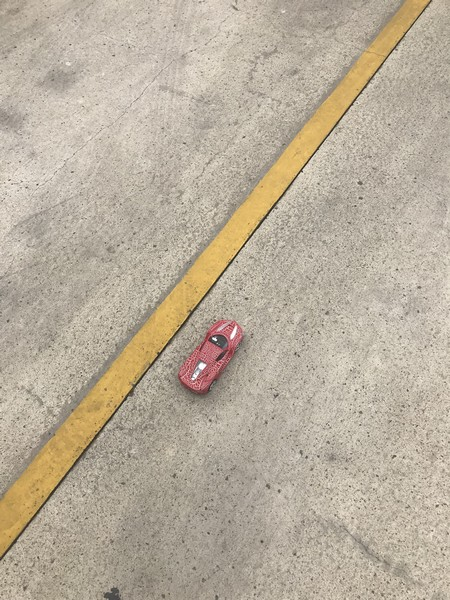RC: (177, 319, 247, 396)
